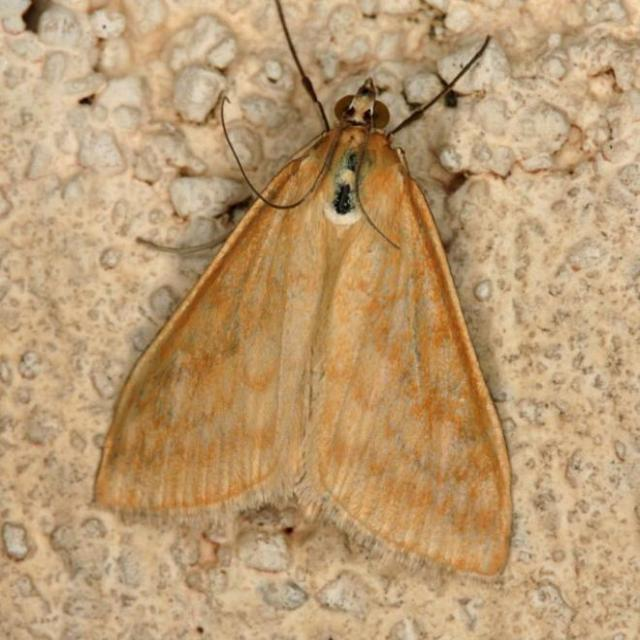cornborer-Adult-: (106, 21, 546, 602)
